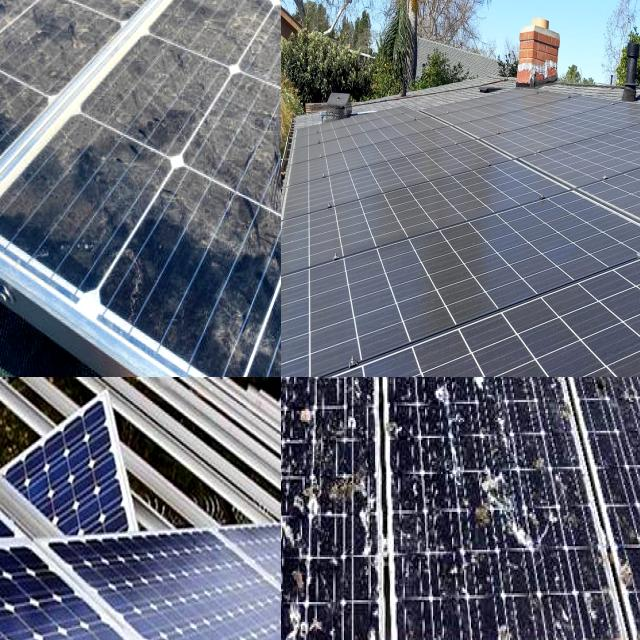bird: (478, 470, 562, 572), (281, 480, 327, 550), (287, 581, 335, 640), (432, 377, 497, 408), (281, 573, 309, 640), (281, 501, 309, 550), (281, 377, 307, 428), (458, 377, 497, 410), (418, 377, 457, 407), (300, 396, 324, 442), (281, 552, 298, 606), (281, 381, 293, 438), (281, 377, 304, 401), (580, 377, 613, 391), (631, 523, 640, 563)
crack: (50, 525, 281, 640), (0, 542, 214, 640)
dust: (162, 162, 260, 363), (6, 0, 123, 85), (54, 154, 132, 274), (127, 54, 212, 150), (0, 0, 46, 155), (231, 0, 281, 120), (141, 0, 221, 67), (129, 0, 236, 50), (250, 0, 281, 27)
